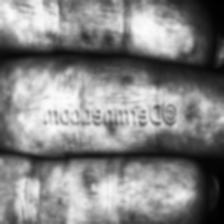Toxin: (22, 160, 170, 224), (61, 72, 164, 96), (78, 30, 128, 47)
